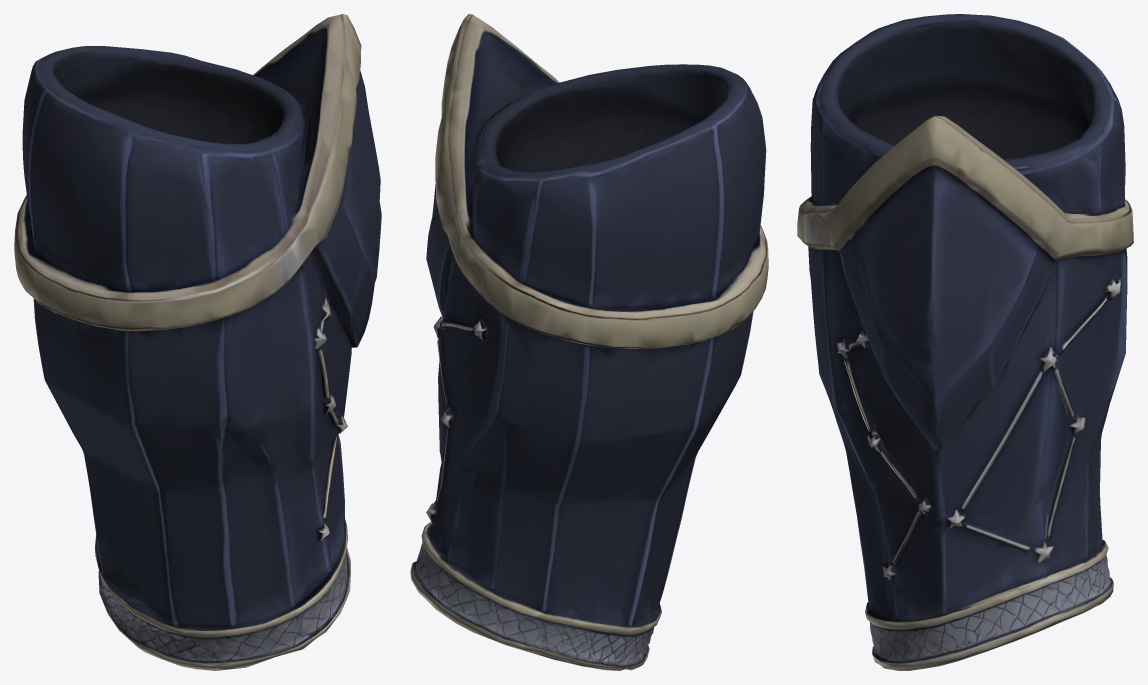
The model's file is boss_shin.glb.
3 renders of one model, left to right at view 1: azimuth 30°, elevation 25°; view 2: azimuth 150°, elevation 25°; view 3: azimuth 270°, elevation 25°, orthographic. The views are drawn at different scales.
Parts seen in each view (by area): view 1: tripo_node_21de2c44-f26b-4b29-9677-9301f0b37019; view 2: tripo_node_21de2c44-f26b-4b29-9677-9301f0b37019; view 3: tripo_node_21de2c44-f26b-4b29-9677-9301f0b37019.
Part boxes in pixels (x1,y1,x2,y2): tripo_node_21de2c44-f26b-4b29-9677-9301f0b37019: (14,14,381,670); tripo_node_21de2c44-f26b-4b29-9677-9301f0b37019: (410,14,768,670); tripo_node_21de2c44-f26b-4b29-9677-9301f0b37019: (797,14,1133,670).
Size of the model in its own units: 0.5644 by 1 by 0.5163.
1 material, 1 textured.
